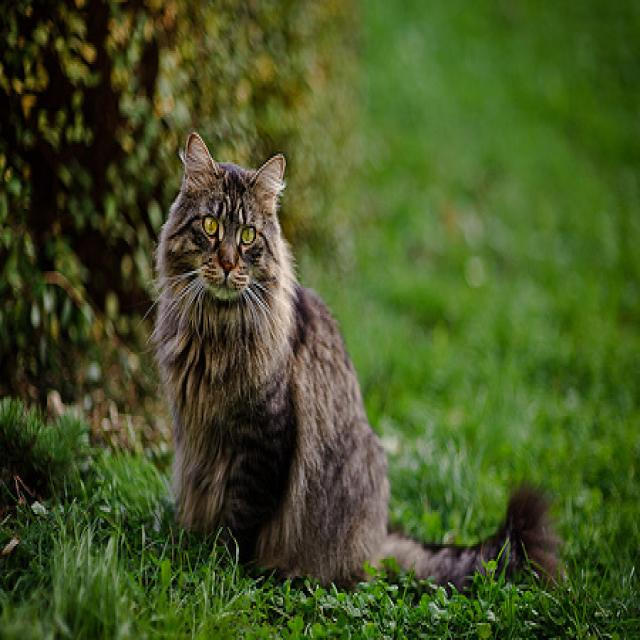Maine Coon: (152, 130, 558, 600)
